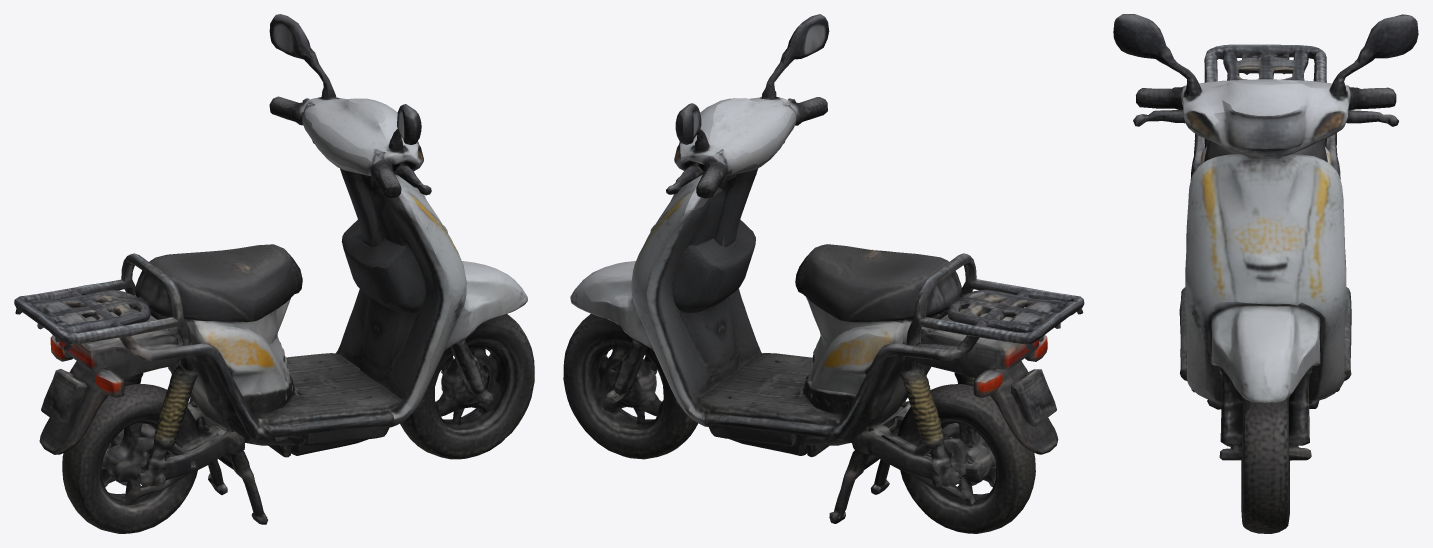
Rendered from scooter.glb.
3 renders of one model, left to right at view 1: azimuth 30°, elevation 25°; view 2: azimuth 150°, elevation 25°; view 3: azimuth 270°, elevation 25°, orthographic. The views are drawn at different scales.
Parts seen in each view (by area): view 1: ScooterParked; view 2: ScooterParked; view 3: ScooterParked.
Boxes of the visible parts, box(x1,y1,x2,y2) form: ScooterParked: box(14, 14, 534, 533); ScooterParked: box(563, 14, 1084, 533); ScooterParked: box(1113, 14, 1418, 533).
Size of the model in its own units: 1.8 by 1.47 by 0.9004.
Materials: 1 (1 with a texture image).
